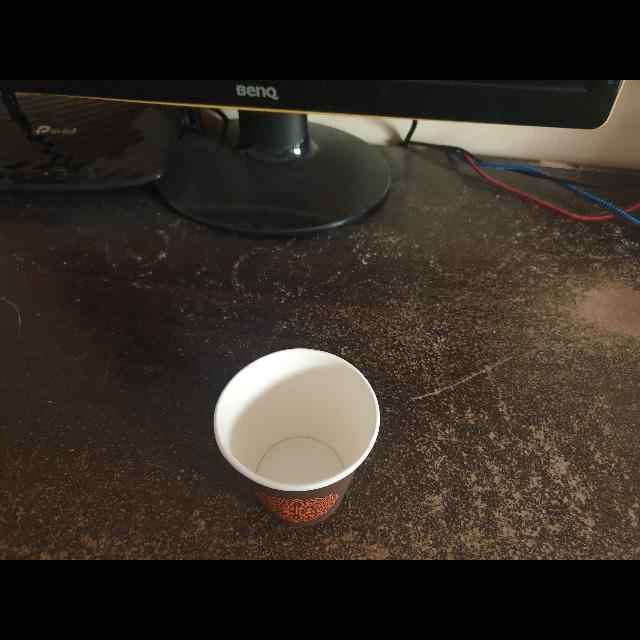trash: (212, 343, 384, 535)
